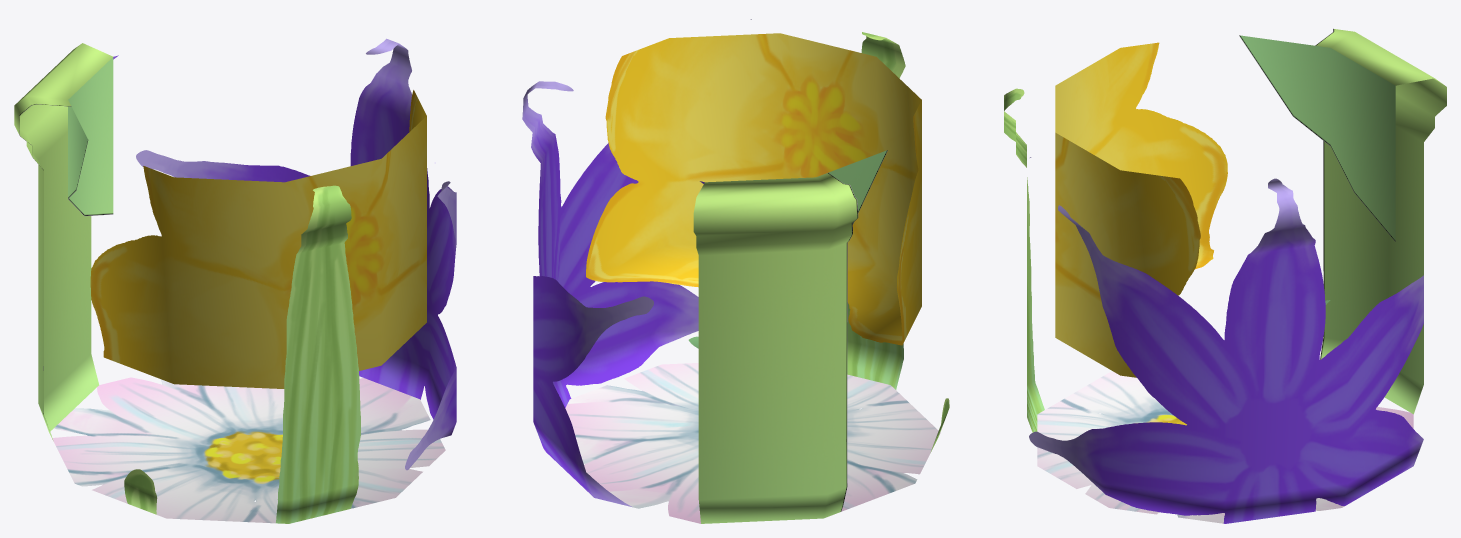
The model's file is Plantpot2.fbx.
3 renders of one model, left to right at view 1: azimuth 30°, elevation 25°; view 2: azimuth 150°, elevation 25°; view 3: azimuth 270°, elevation 25°, orthographic.
Visible parts, largest first — view 1: pCylinder8; view 2: pCylinder8; view 3: pCylinder8.
Boxes of the visible parts, box(x1,y1,x2,y2) form: pCylinder8: box(14, 38, 456, 523); pCylinder8: box(522, 19, 949, 523); pCylinder8: box(1004, 28, 1446, 523).
Size of the model in its own units: 25.7 by 20.29 by 24.44.
